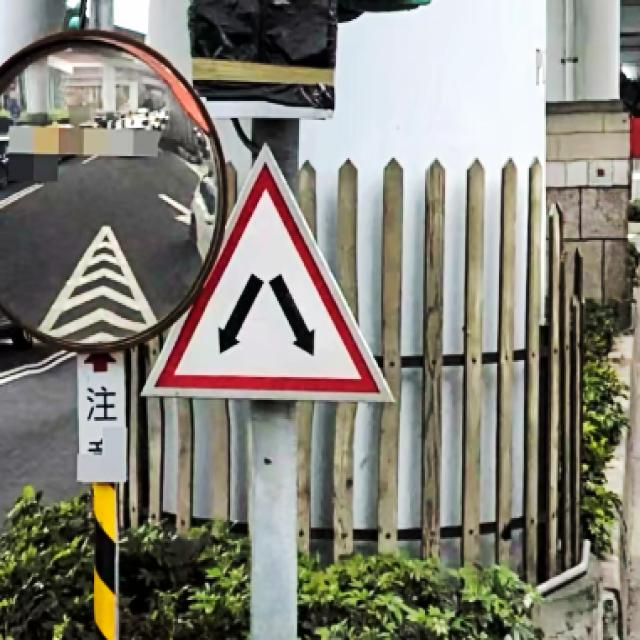diverge: (156, 164, 378, 392)
